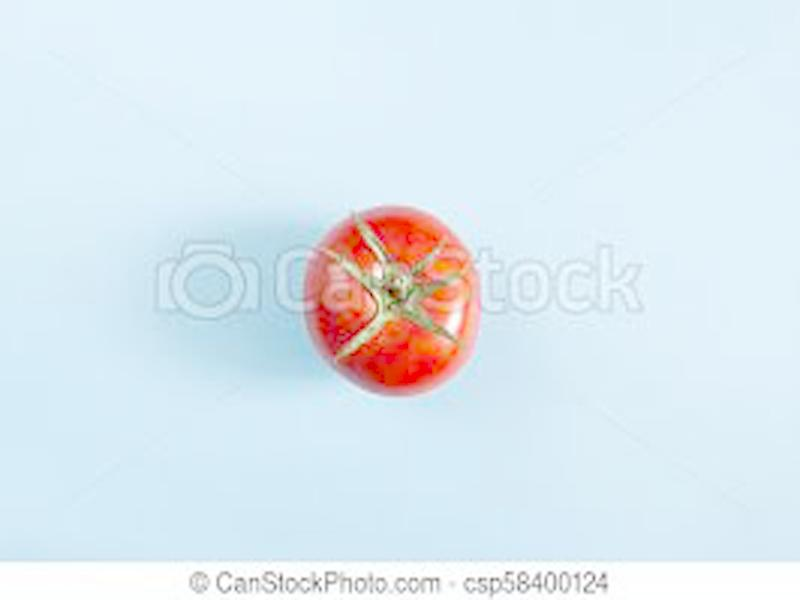Tomato: (307, 206, 478, 400)
